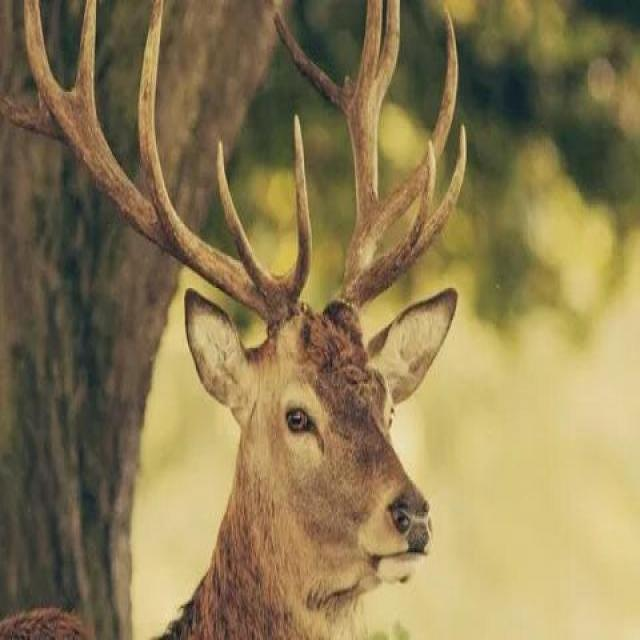deer: (154, 174, 476, 639)
